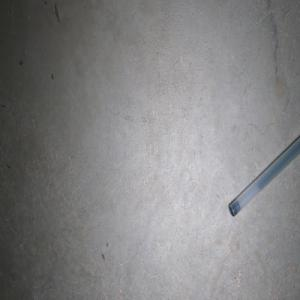Pen: (228, 137, 300, 216)
